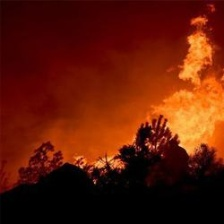fire: (139, 29, 224, 165)
